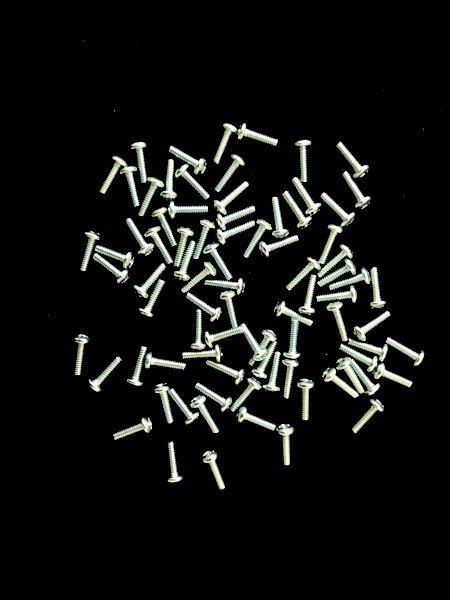shortscrew: (320, 190, 357, 228), (317, 243, 355, 280), (174, 164, 210, 201), (384, 336, 426, 367), (336, 142, 371, 179), (281, 191, 314, 230), (353, 309, 393, 341), (290, 177, 322, 217), (351, 399, 386, 435), (286, 257, 322, 292), (87, 357, 121, 394), (216, 153, 247, 193), (243, 218, 274, 258), (132, 264, 166, 300), (348, 359, 381, 396), (317, 258, 359, 287), (93, 254, 131, 286), (342, 171, 372, 211), (214, 182, 249, 216), (339, 344, 380, 373), (322, 368, 359, 400), (203, 243, 234, 281), (190, 396, 220, 435), (318, 222, 345, 265), (169, 145, 207, 175), (195, 383, 233, 413), (185, 292, 223, 322), (248, 329, 277, 368), (99, 155, 127, 195), (145, 225, 173, 265), (334, 358, 364, 395), (201, 450, 227, 492), (240, 323, 268, 362), (170, 389, 200, 425), (251, 338, 276, 381), (126, 218, 154, 256), (215, 221, 257, 246), (111, 417, 153, 442), (274, 301, 314, 327), (236, 406, 276, 432), (374, 363, 414, 389), (259, 235, 300, 260), (238, 122, 279, 147), (213, 123, 237, 165), (214, 206, 256, 230), (330, 268, 373, 291), (326, 301, 349, 343), (268, 196, 291, 238), (95, 246, 135, 270), (206, 361, 246, 385), (140, 281, 165, 319), (348, 339, 389, 362), (172, 227, 195, 268), (79, 230, 101, 272), (126, 346, 148, 388), (174, 241, 196, 283), (280, 359, 302, 399), (72, 334, 92, 377), (192, 220, 214, 259), (283, 318, 303, 360), (145, 352, 187, 372), (120, 166, 140, 208), (203, 327, 243, 348), (166, 440, 185, 484), (154, 383, 174, 424), (369, 267, 388, 309), (317, 286, 359, 305), (299, 275, 318, 317), (297, 379, 315, 422), (263, 351, 281, 394), (183, 345, 223, 364), (220, 290, 239, 330), (160, 160, 178, 202), (276, 424, 294, 466), (131, 141, 149, 183), (235, 378, 261, 407), (206, 277, 246, 295), (296, 139, 312, 183), (191, 309, 206, 351)
